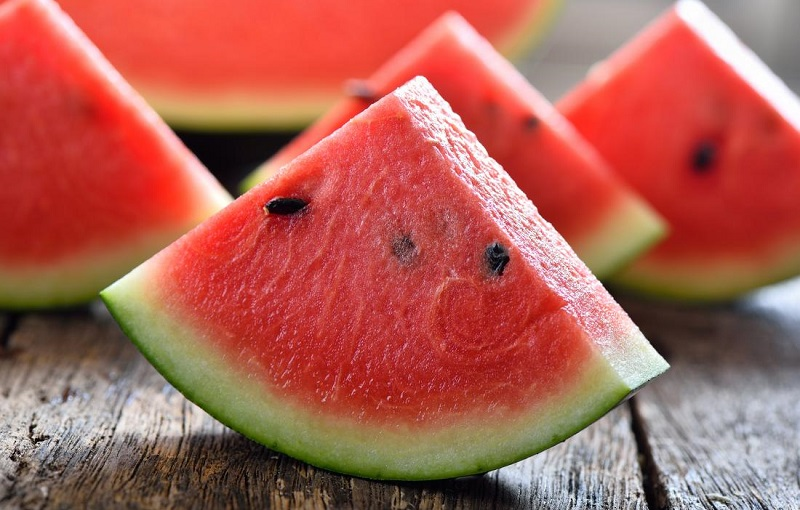Semangka: (80, 107, 617, 454), (567, 51, 787, 258)
